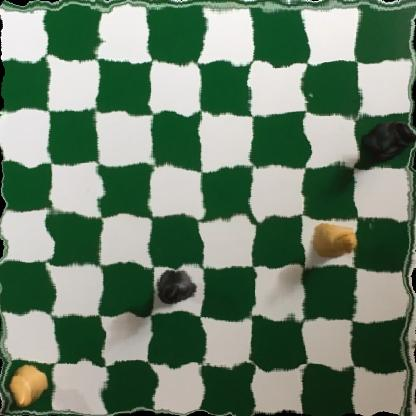black-bishop: (359, 120, 410, 167), (154, 266, 196, 307)
white-bishop: (311, 222, 360, 264), (9, 361, 50, 409)
